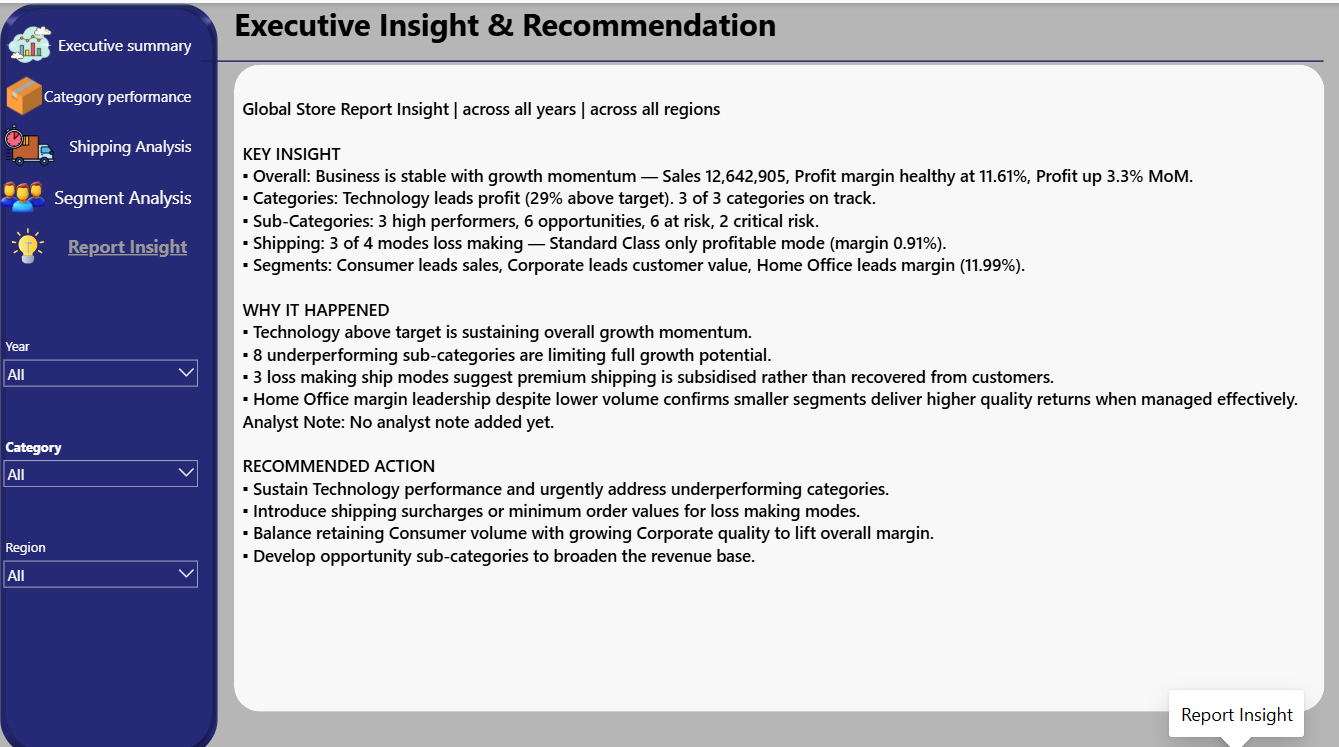

This screenshot's page, from the dashboard's own definition file:
{"tool":"powerbi","page":{"name":"Report Insight","canvas":[1920,1080],"ordinal":5},"visuals":[{"type":"image","box":[0,0,312,1080],"z":0,"group":"g3"},{"type":"group","id":"g1","title":"Group 8","box":[0,24,274.2,288],"z":0,"group":"g6"},{"type":"group","id":"g2","title":"Group 6","box":[0,24,84.4,288],"z":0,"group":"g1"},{"type":"shape","box":[0,24,274.2,72],"z":0,"group":"g4"},{"type":"actionButton","box":[0,24,288,72],"z":0,"group":"g5"},{"type":"shape","box":[288,48,1608,72],"z":0,"group":"g8"},{"type":"shape","box":[336,89,1562,927],"z":0},{"type":"image","box":[0,168,84.4,72],"z":0,"group":"g2"},{"type":"slicer","fields":{"Values":["Superstore Data.Region"]},"box":[0,768,288,72],"z":0,"group":"g7"},{"type":"group","id":"g3","title":"Side Left Panel","box":[0,0,312,1080],"z":1000},{"type":"shape","box":[0,0,312,1080],"z":1000,"group":"g3"},{"type":"shape","box":[336,0,1128,72],"z":1000,"group":"g8"},{"type":"group","id":"g4","title":"Group 7","box":[0,24,274.2,288],"z":1000,"group":"g1"},{"type":"group","id":"g5","title":"Group 9","box":[0,24,288,288],"z":1000,"group":"g6"},{"type":"image","box":[0,96,70,72],"z":1000,"group":"g2"},{"type":"shape","box":[0,96,274.2,72],"z":1000,"group":"g4"},{"type":"actionButton","box":[0,96,288,72],"z":1000,"group":"g5"},{"type":"slicer","fields":{"Values":["Date_Table.Year"]},"box":[0,480,288,72],"z":1000,"group":"g7"},{"type":"group","id":"g6","title":"Group 3","box":[0,24,288,360],"z":2000},{"type":"actionButton","box":[0,168,288,72],"z":2000,"group":"g5"},{"type":"image","box":[0,240,65,72],"z":2000,"group":"g2"},{"type":"shape","box":[0,240,274.2,72],"z":2000,"group":"g4"},{"type":"group","id":"g7","title":"Filter Panel","box":[0,480,288,360],"z":2000,"group":"g3"},{"type":"group","id":"g8","title":"Top Panel","box":[288,0,1608,120],"z":3000},{"type":"image","box":[0,24,84.4,72],"z":3000,"group":"g2"},{"type":"shape","box":[0,168,274.2,72],"z":3000,"group":"g4"},{"type":"actionButton","box":[0,240,288,72],"z":3000,"group":"g5"},{"type":"slicer","fields":{"Values":["Superstore Data.Category"]},"box":[0,624,288,72],"z":3000,"group":"g7"},{"type":"cardVisual","fields":{"Data":["Dynamic Tittle.Report_Insight_Summary"]},"box":[336,120,1560,960],"z":4000},{"type":"image","box":[0,312,80,72],"z":8000,"group":"g6"},{"type":"shape","box":[0,312,268,72],"z":9000,"group":"g6"}]}

Visuals, with their boxes in screenshot pixels (x1, y1, x2, y2), scaled from the page's 1920x1080 canvas onto the 1339x747 screenshot:
image: crop(0, 0, 218, 746)
"Group 8" group: crop(0, 17, 191, 216)
"Group 6" group: crop(0, 17, 59, 216)
shape: crop(0, 17, 191, 66)
actionButton: crop(0, 17, 201, 66)
shape: crop(201, 33, 1322, 83)
shape: crop(234, 62, 1324, 703)
image: crop(0, 116, 59, 166)
slicer - Superstore Data.Region: crop(0, 531, 201, 581)
"Side Left Panel" group: crop(0, 0, 218, 746)
shape: crop(0, 0, 218, 746)
shape: crop(234, 0, 1021, 50)
"Group 7" group: crop(0, 17, 191, 216)
"Group 9" group: crop(0, 17, 201, 216)
image: crop(0, 66, 49, 116)
shape: crop(0, 66, 191, 116)
actionButton: crop(0, 66, 201, 116)
slicer - Date_Table.Year: crop(0, 332, 201, 382)
"Group 3" group: crop(0, 17, 201, 266)
actionButton: crop(0, 116, 201, 166)
image: crop(0, 166, 45, 216)
shape: crop(0, 166, 191, 216)
"Filter Panel" group: crop(0, 332, 201, 581)
"Top Panel" group: crop(201, 0, 1322, 83)
image: crop(0, 17, 59, 66)
shape: crop(0, 116, 191, 166)
actionButton: crop(0, 166, 201, 216)
slicer - Superstore Data.Category: crop(0, 432, 201, 481)
cardVisual - Dynamic Tittle.Report_Insight_Summary: crop(234, 83, 1322, 746)
image: crop(0, 216, 56, 266)
shape: crop(0, 216, 187, 266)
